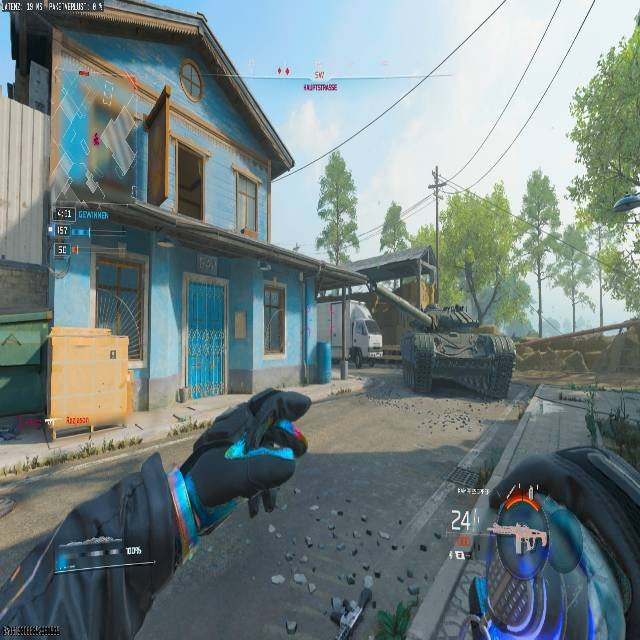head: (275, 389, 311, 420)
player: (348, 342, 362, 368)
